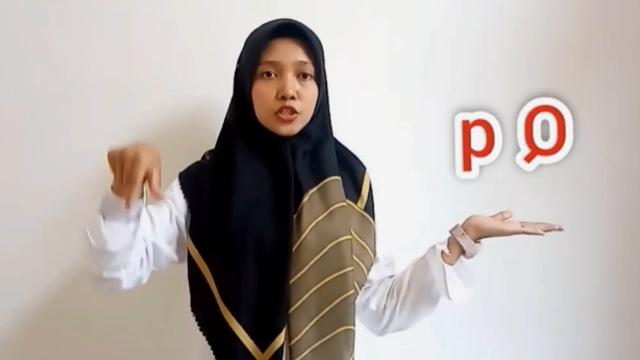Q: (95, 138, 168, 212)
